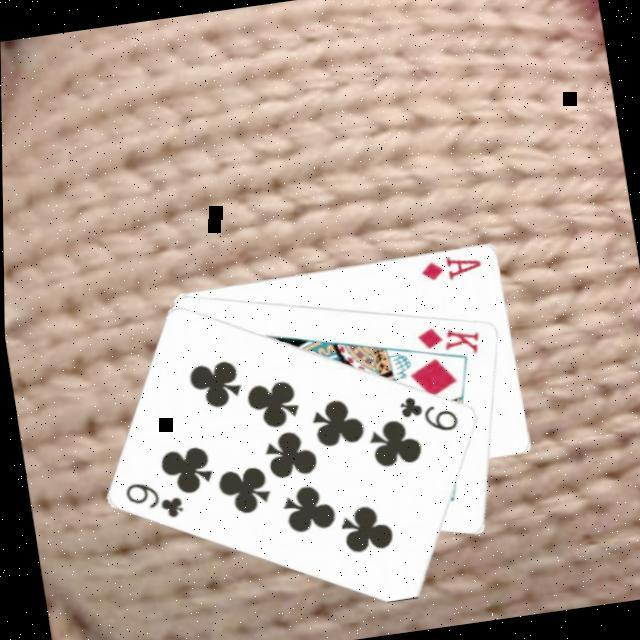9C: (393, 385, 463, 440), (119, 471, 188, 526)
AD: (416, 248, 485, 286)
KD: (412, 316, 486, 363)
